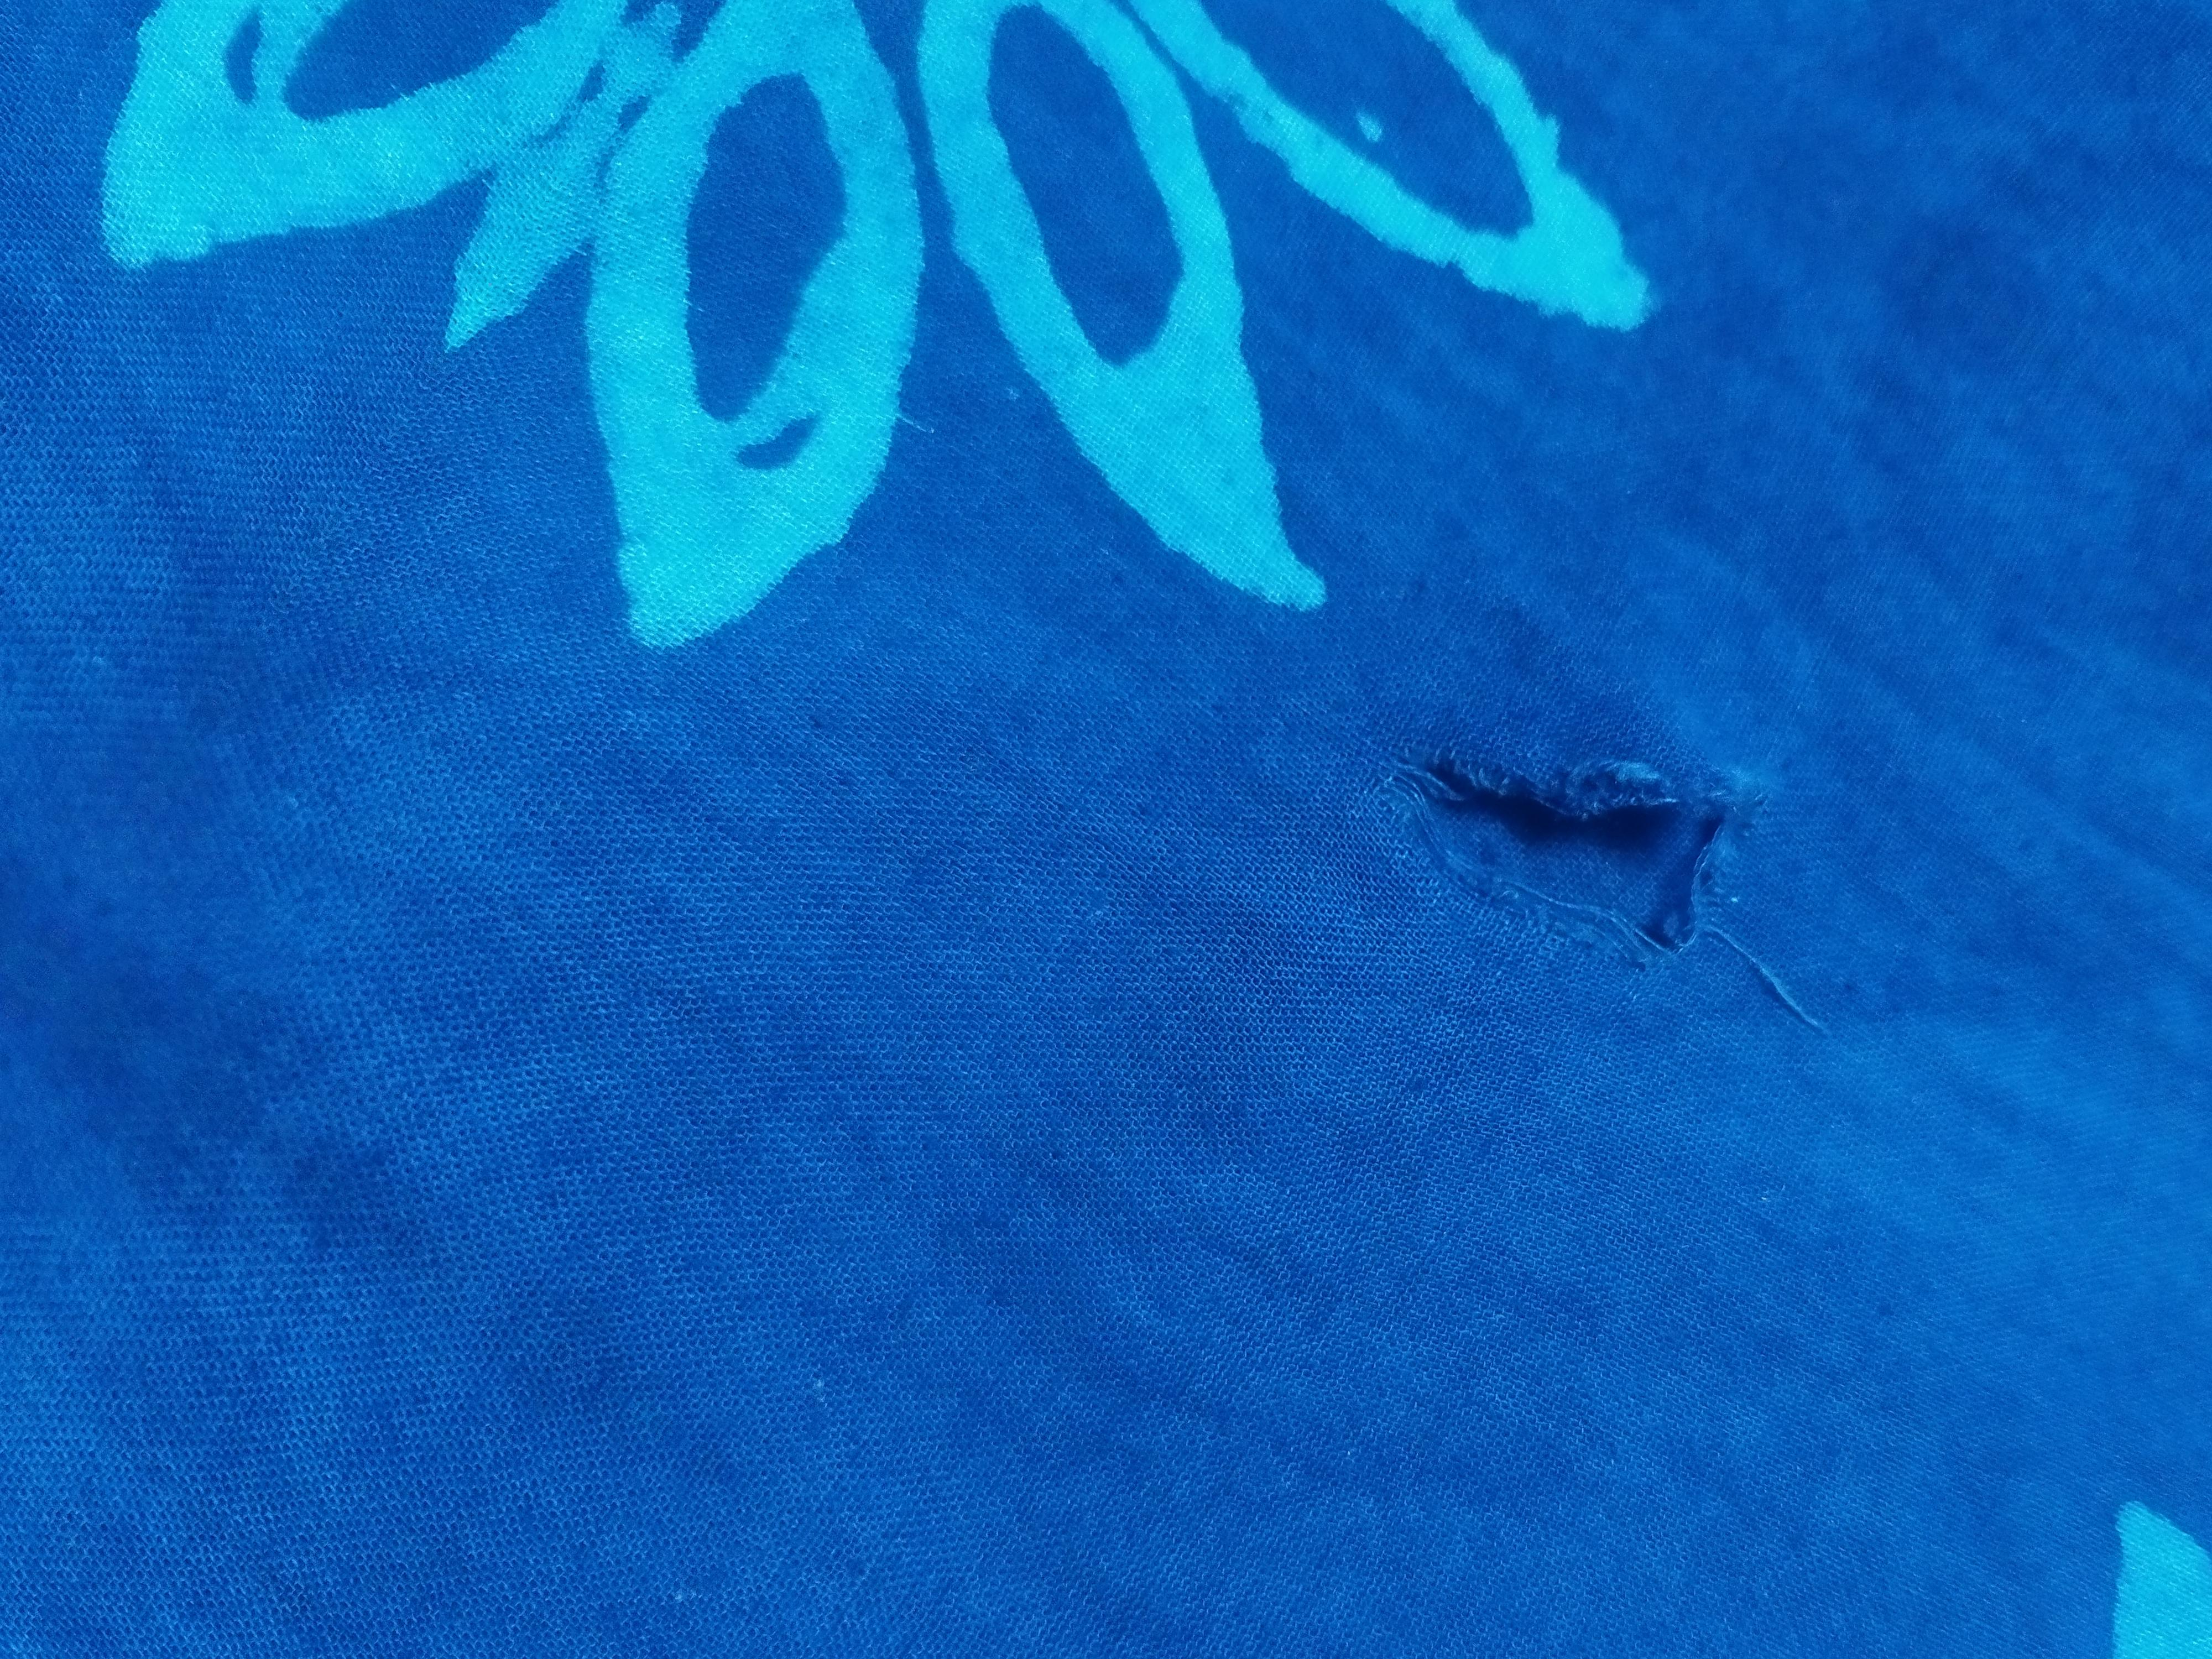hole: (1381, 702, 1789, 958)
